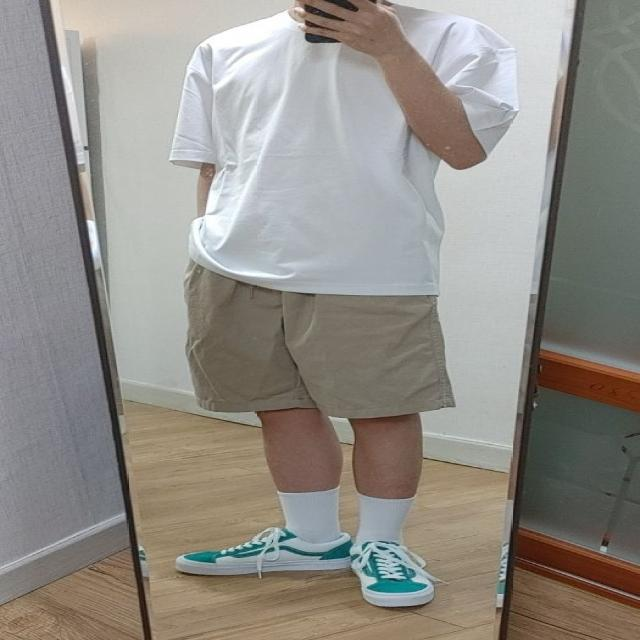shortpants: (181, 260, 458, 420)
shortsleeve: (167, 2, 517, 300)
